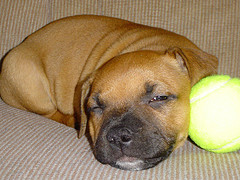tennis ball: (187, 74, 239, 153)
